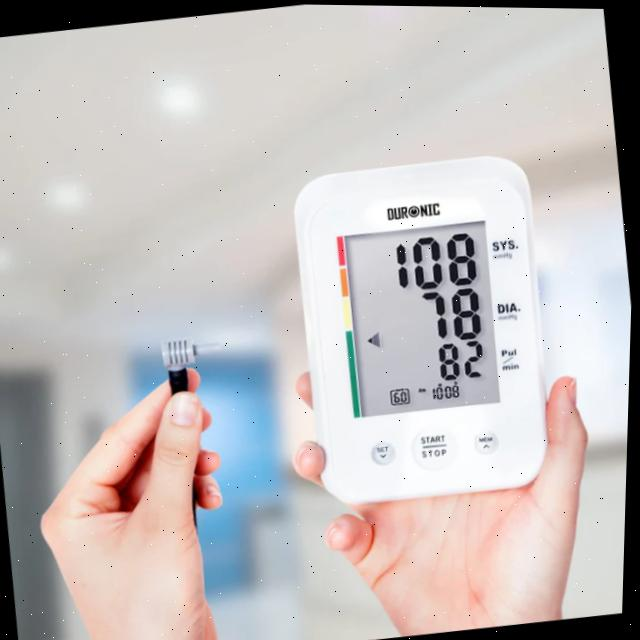dia: (415, 280, 491, 344)
pul: (429, 334, 499, 384)
ssd: (347, 218, 503, 414)
sys: (386, 227, 489, 291)
